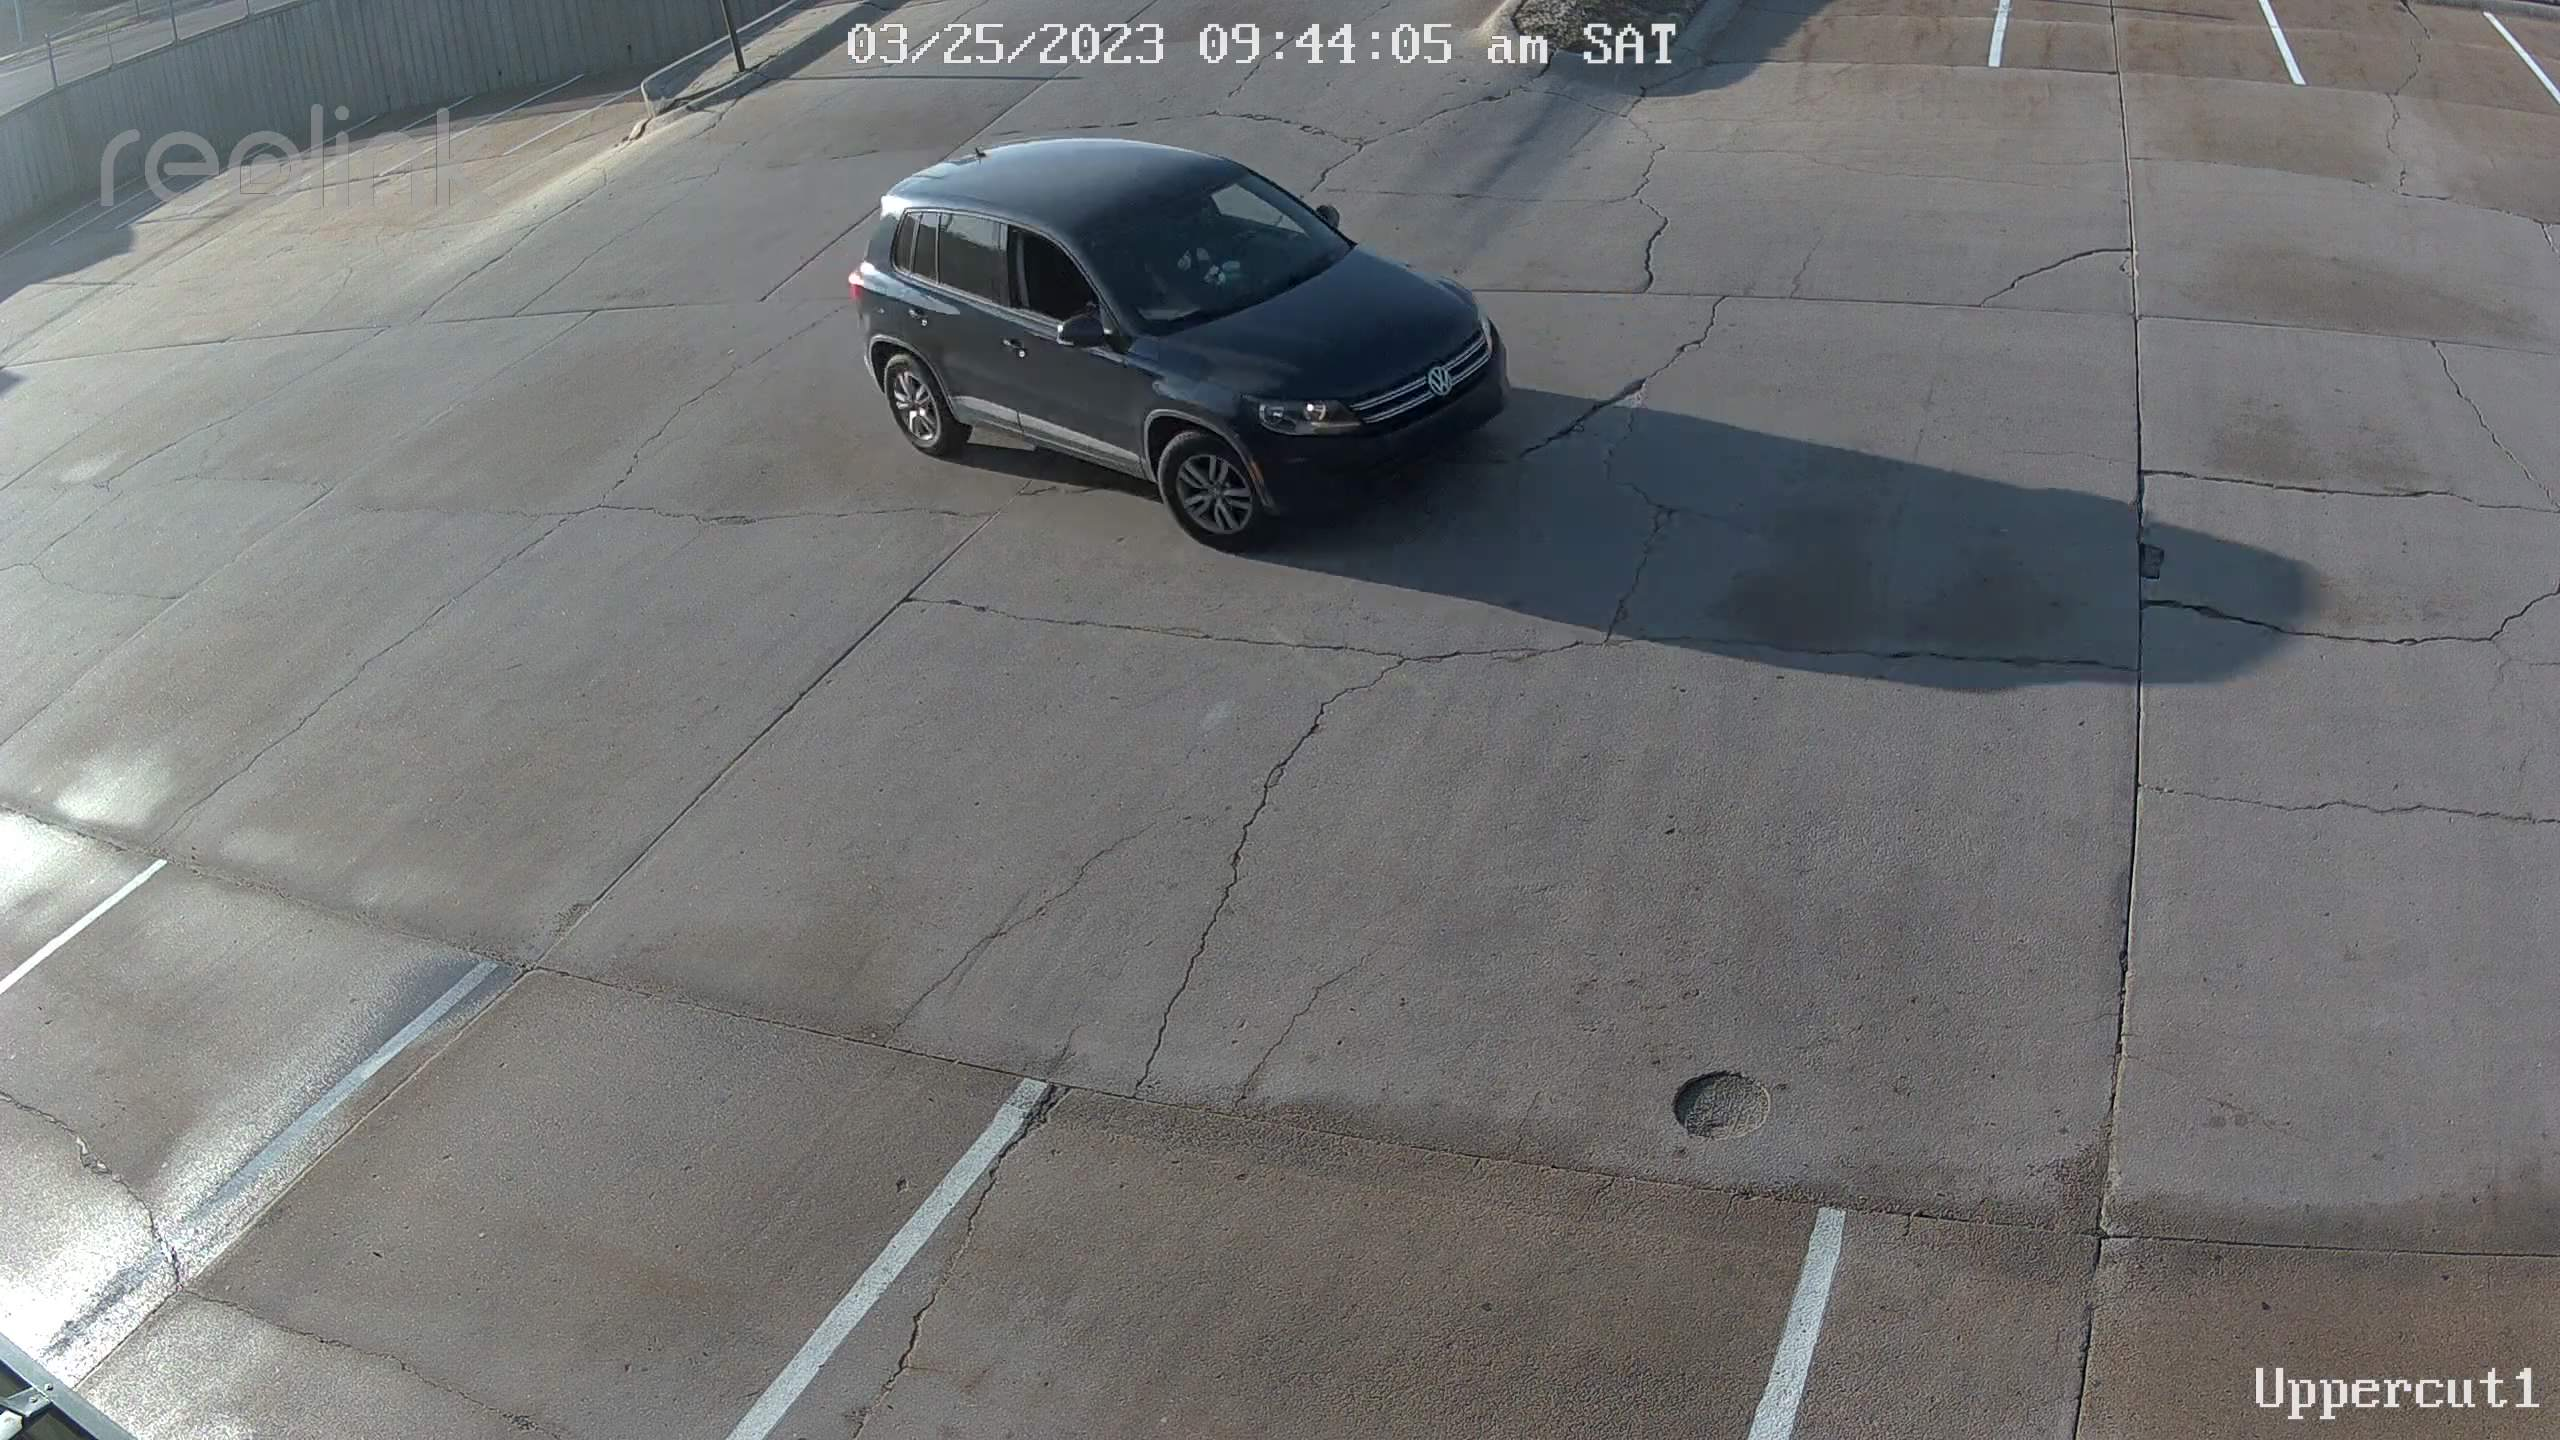car: (743, 40, 1589, 586)
